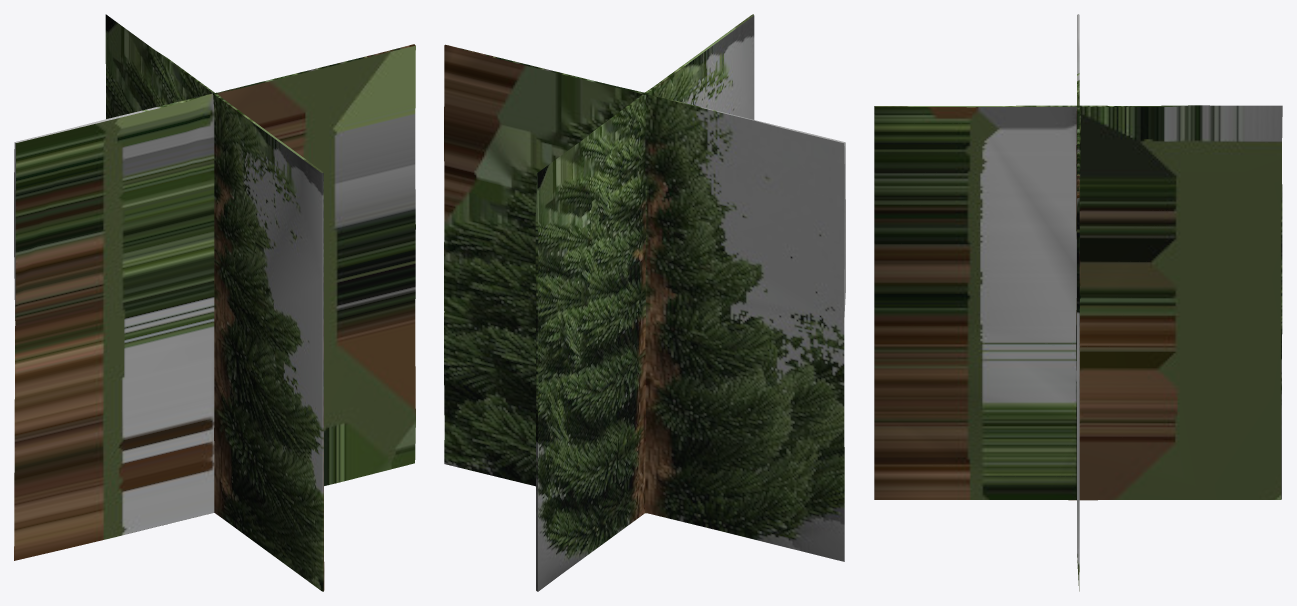
The model's file is pine.glb.
The picture shows the model from 3 angles, left to right: view 1: azimuth 30°, elevation 25°; view 2: azimuth 150°, elevation 25°; view 3: azimuth 270°, elevation 25°; orthographic projection. The views are drawn at different scales.
Size of the model in its own units: 1.99 by 1.99 by 1.87.
Materials: 1 (1 with a texture image).
